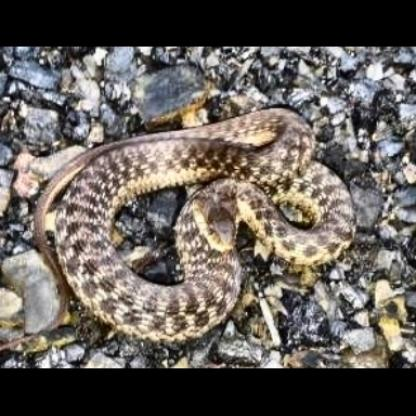Snake: (22, 105, 362, 348)
